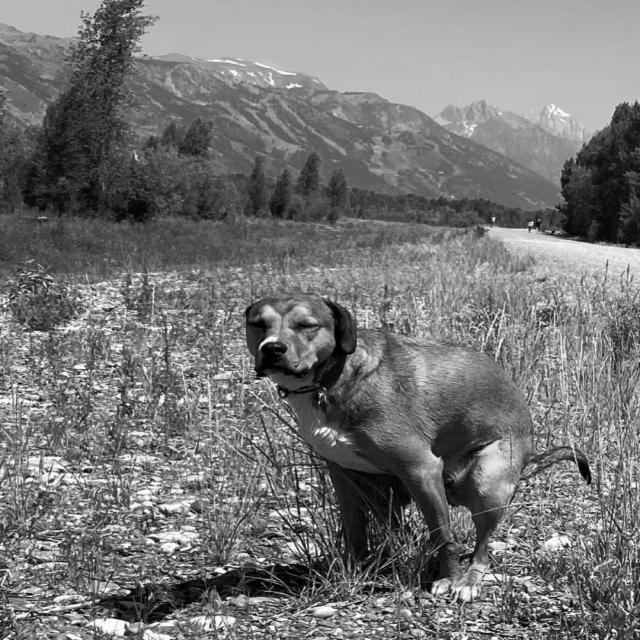squatting: (222, 285, 596, 603)
